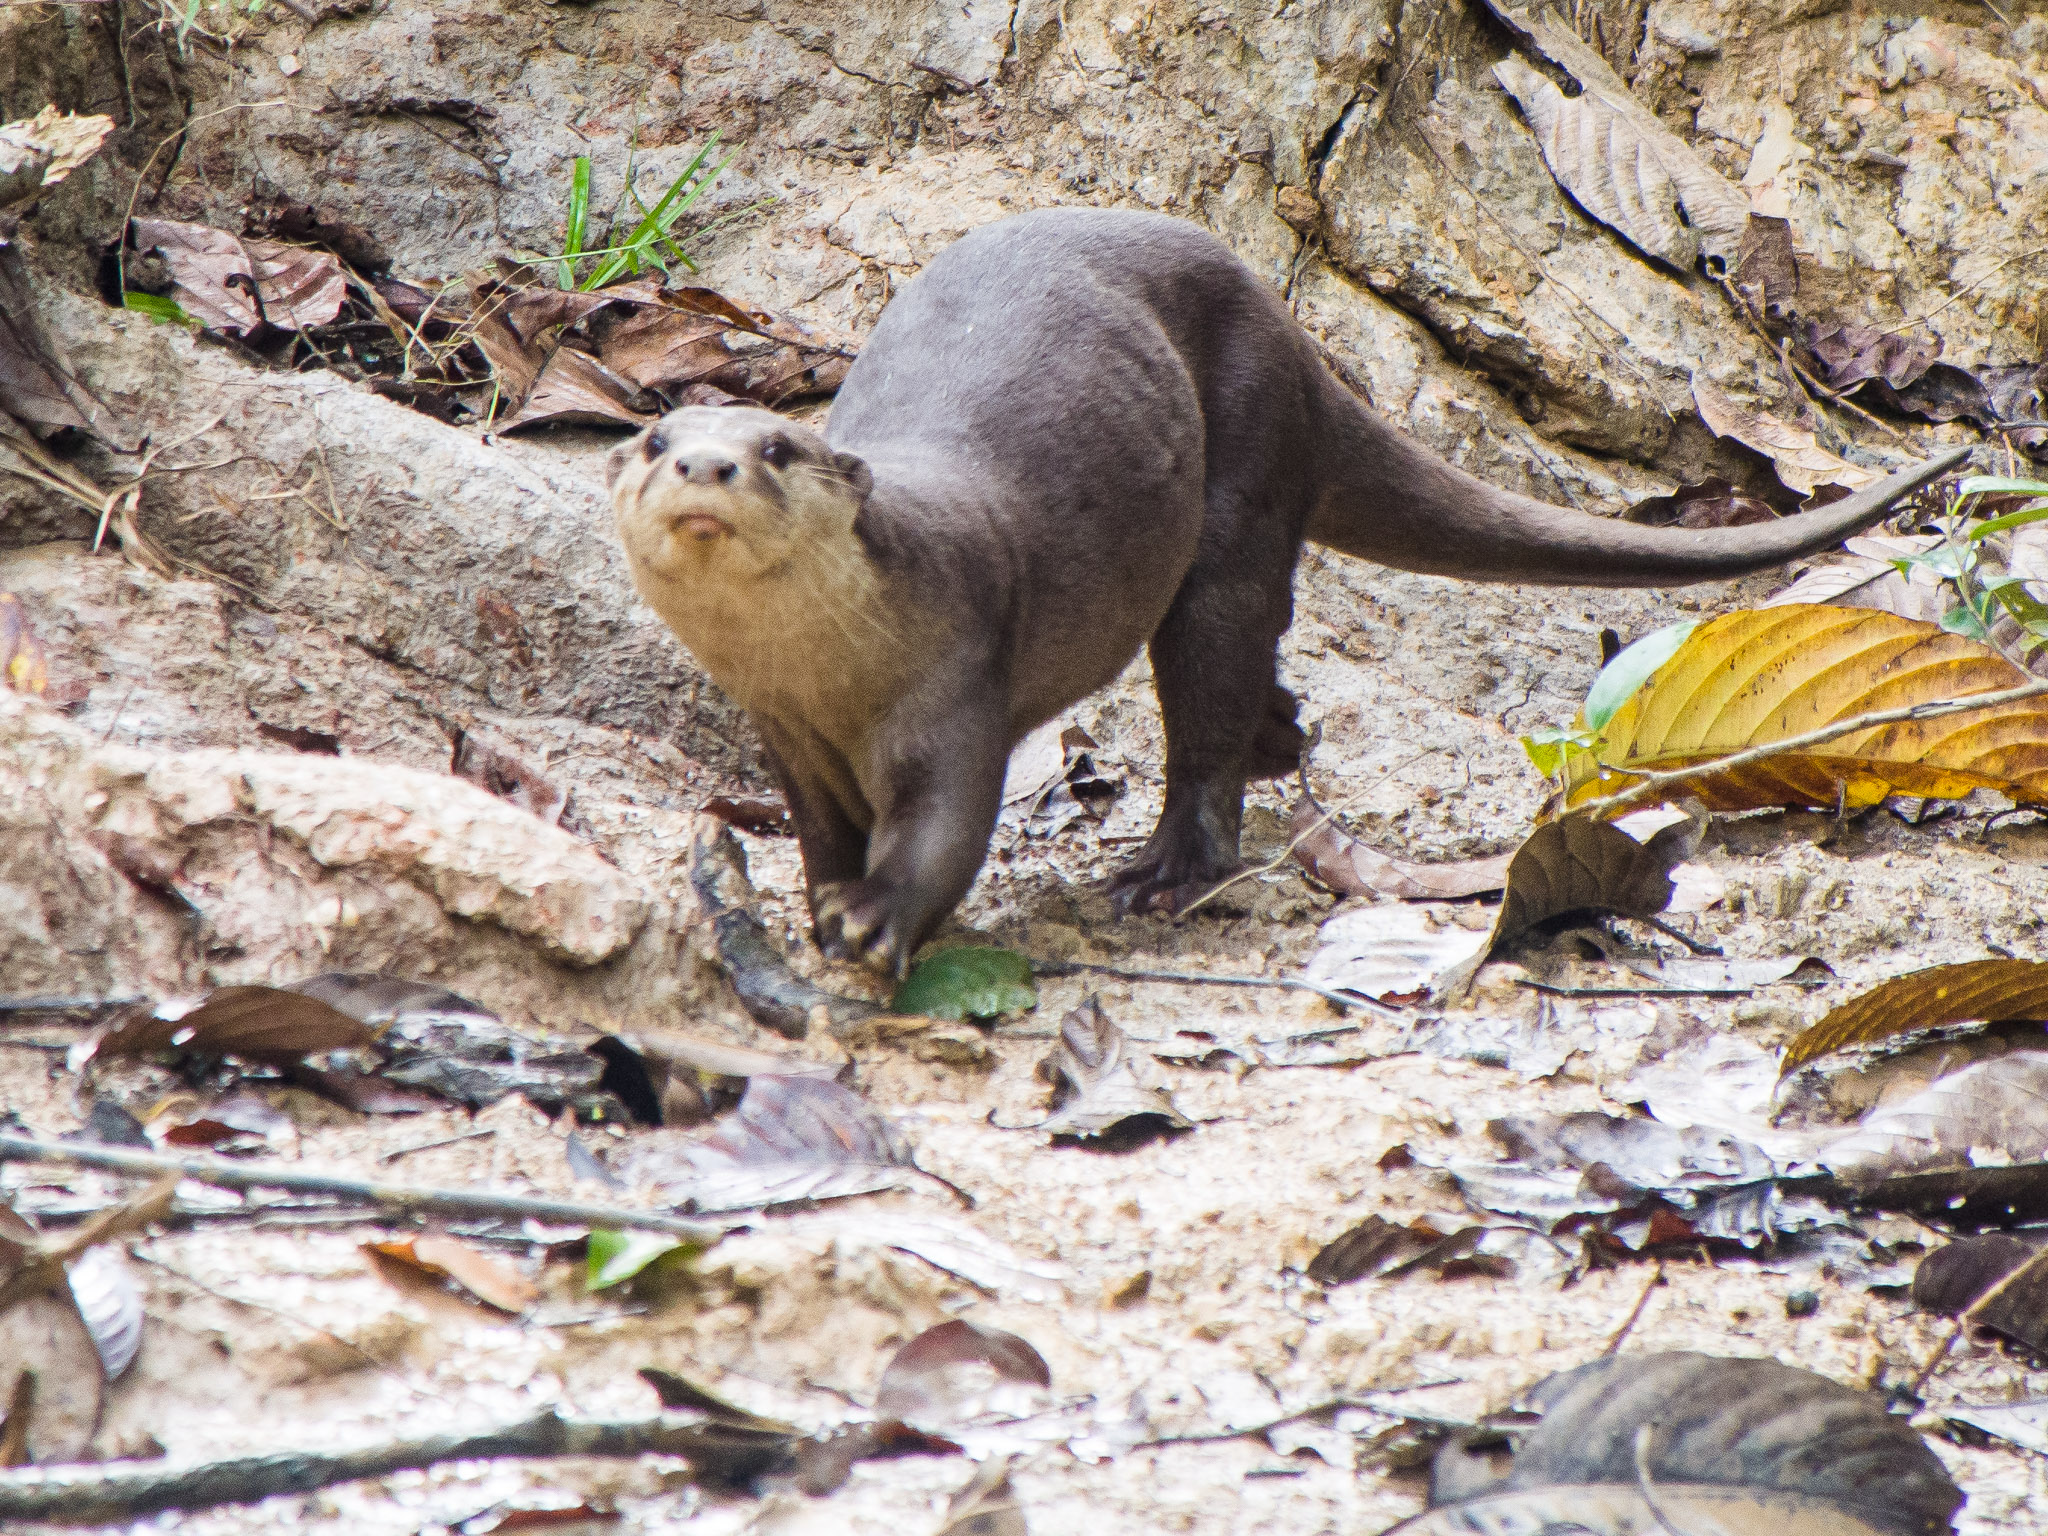otter: (589, 179, 1993, 1007)
